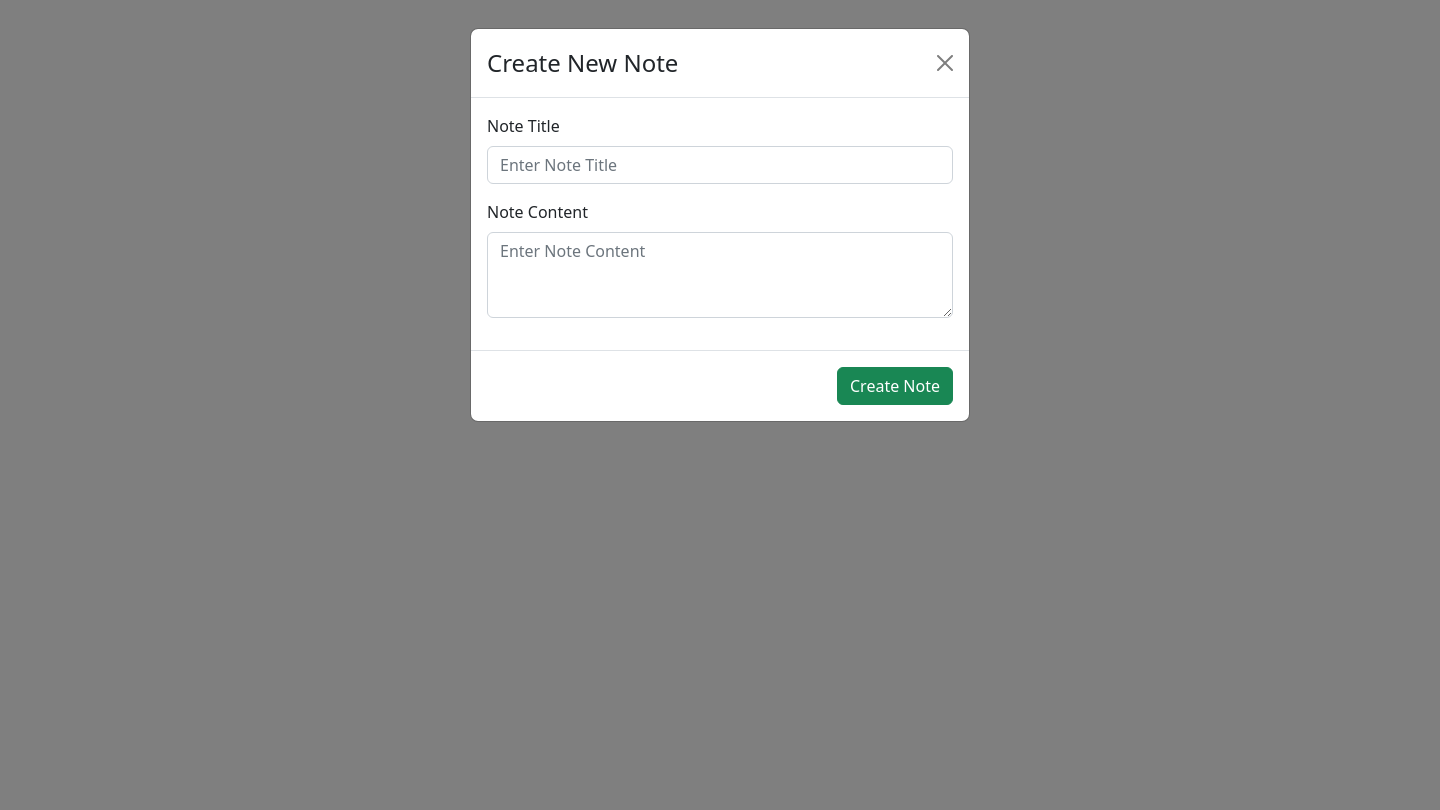
Scenario: should perform input field validation to ensure all fields ar filled
The image size is (1440, 810).
# render error if fields are empty
Click the button with aria-label "Primary Modal Button".
click(895, 386)  # box [837, 367, 953, 405]
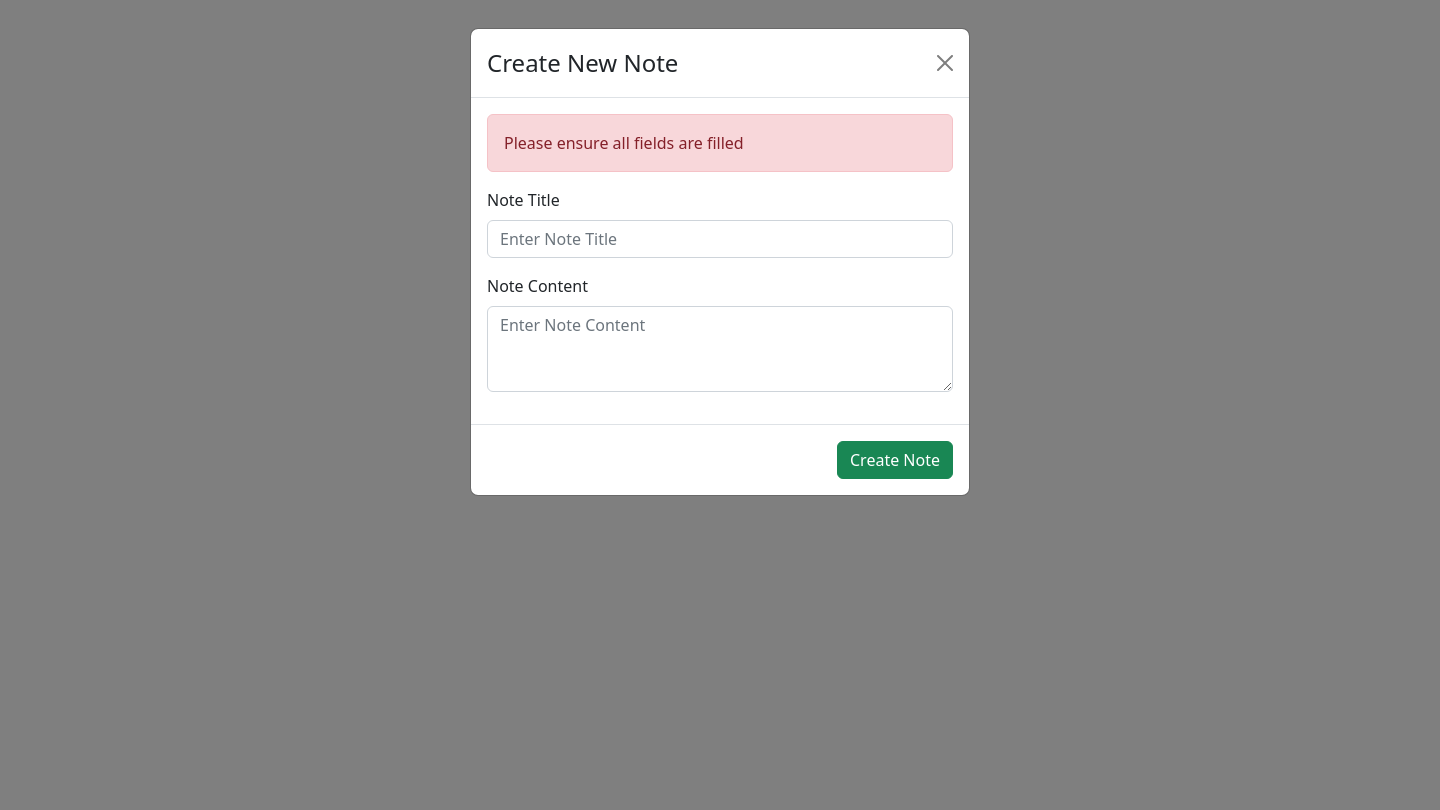
expect the message named "Modal Alert" is shown: met, box [487, 114, 953, 172]
